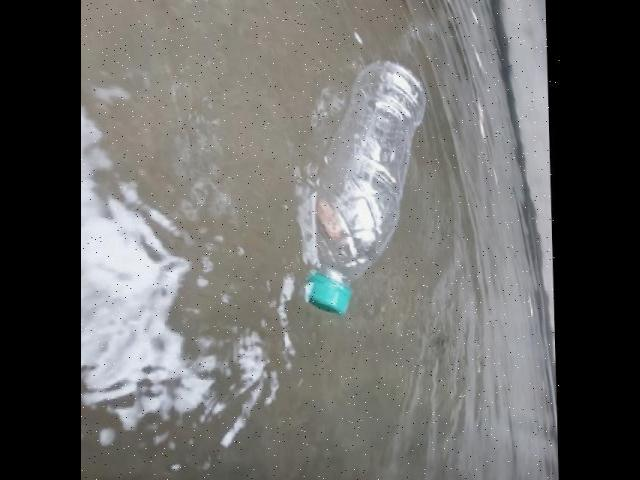Bottle: (300, 51, 430, 325)
